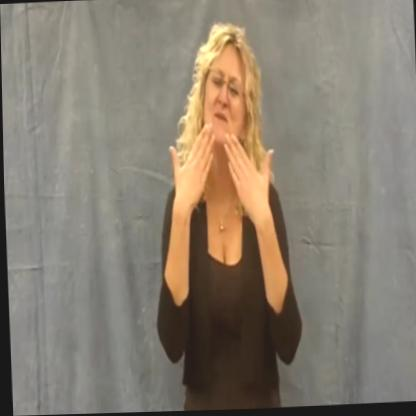ThankYou: (160, 28, 277, 256)
